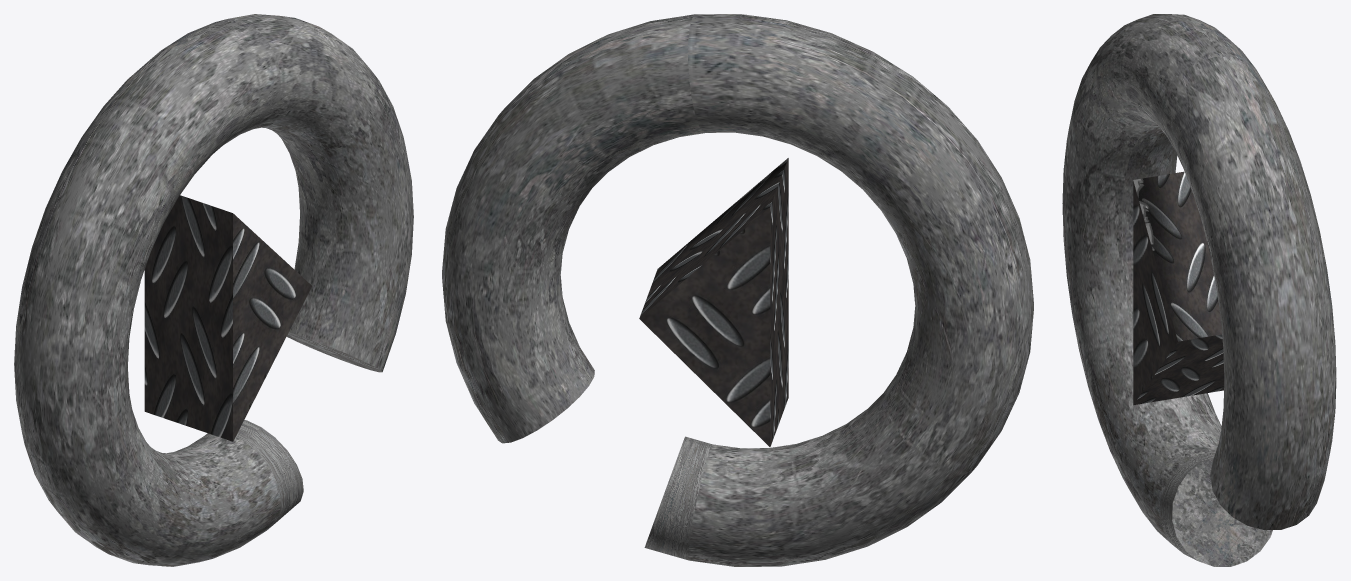
File: PlayButtonv2.fbx
3 views of the same model, side by side, from view 1: azimuth 30°, elevation 25°; view 2: azimuth 150°, elevation 25°; view 3: azimuth 270°, elevation 25° (orthographic). The views are drawn at different scales.
Visible parts, largest first — view 1: Torus; view 2: Torus; view 3: Torus.
Boxes of the visible parts, left/top/right/bottom form: Torus: left=14, top=14, right=413, bottom=566; Torus: left=442, top=14, right=1033, bottom=566; Torus: left=1062, top=14, right=1336, bottom=566.
Size of the model in its own units: 253 by 268 by 131.
